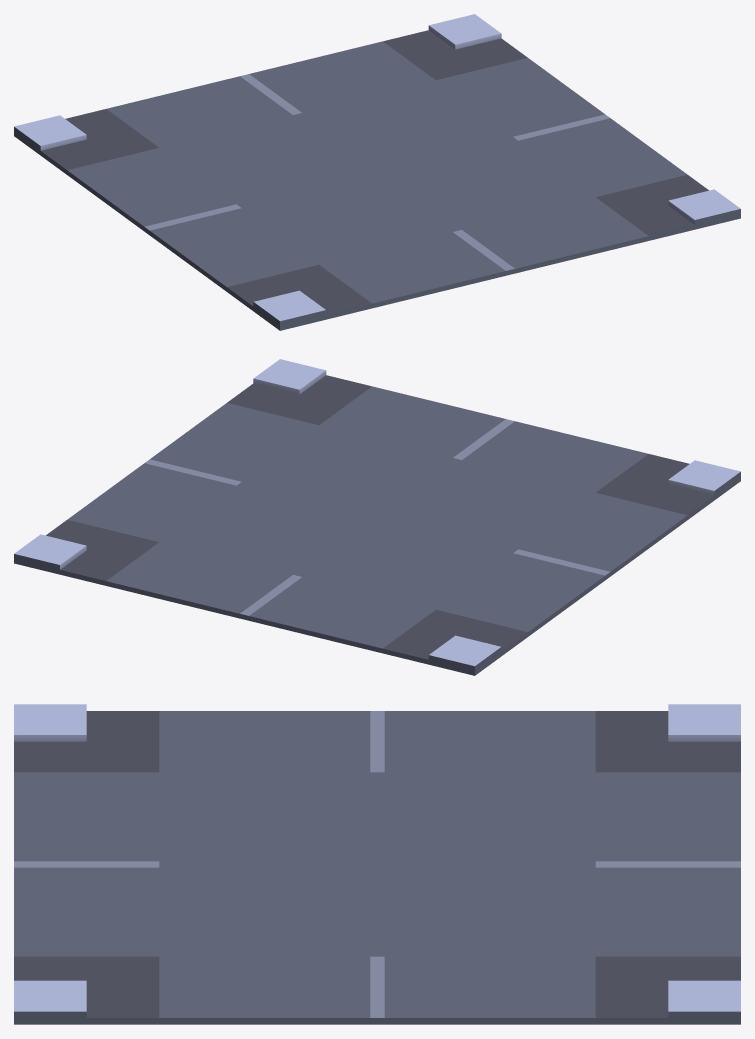
The model's file is road-crossroad.glb.
The picture shows the model from 3 angles, top to bottom: view 1: azimuth 30°, elevation 25°; view 2: azimuth 150°, elevation 25°; view 3: azimuth 270°, elevation 25°; orthographic projection. The views are drawn at different scales.
Visible parts, largest first — view 1: road-crossroad; view 2: road-crossroad; view 3: road-crossroad.
Boxes of the visible parts, x1,y1,x2,y2 form: road-crossroad: (14, 14, 740, 330); road-crossroad: (14, 359, 740, 675); road-crossroad: (14, 704, 740, 1024).
Bounding box in the file's own units: 1 × 0.02 × 1.
Materials: 1 (1 with a texture image).
